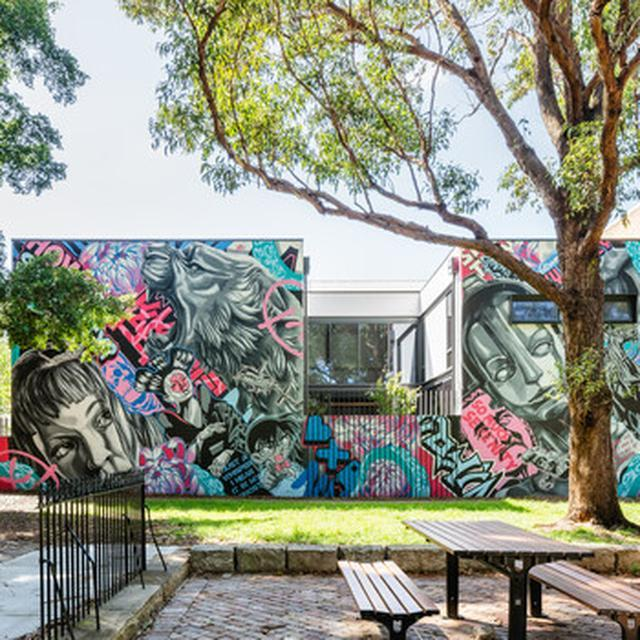building: (6, 234, 640, 494)
